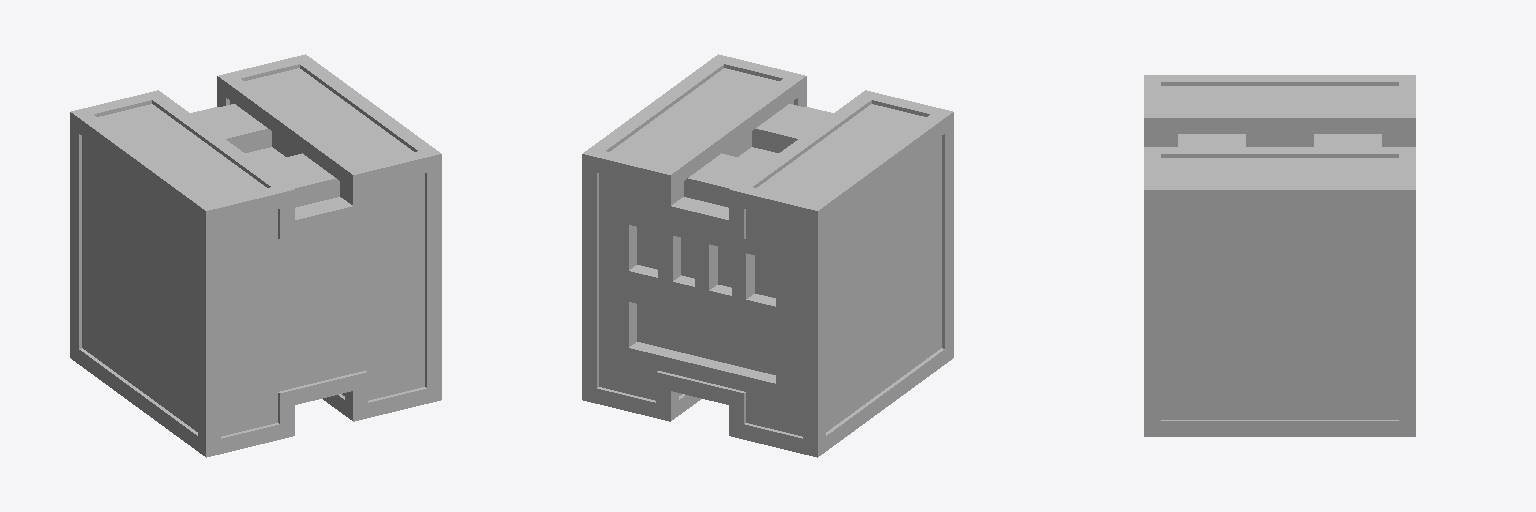
The model's file is combustion.obj.
The picture shows the model from 3 angles: view 1: azimuth 30°, elevation 25°; view 2: azimuth 150°, elevation 25°; view 3: azimuth 270°, elevation 25°; orthographic projection.
Parts seen in each view (by area): view 1: cube, tmp1 x32*, tmp1 x32; view 2: cube, tmp x32, tmp1 x32, tmp1 x32*; view 3: cube, tmp1 x32, tmp1 x32*.
Boxes of the visible parts, x1,y1,x2,y2 form: cube: [79, 61, 432, 450]; tmp1 x32*: [198, 148, 441, 457]; tmp1 x32: [70, 54, 313, 363]; cube: [591, 61, 944, 450]; tmp x32: [599, 173, 802, 436]; tmp1 x32: [582, 148, 825, 457]; tmp1 x32*: [710, 54, 953, 363]; cube: [1161, 75, 1398, 436]; tmp1 x32: [1399, 75, 1415, 436]; tmp1 x32*: [1144, 75, 1160, 436].
Size of the model in its own units: 1 by 1 by 1.